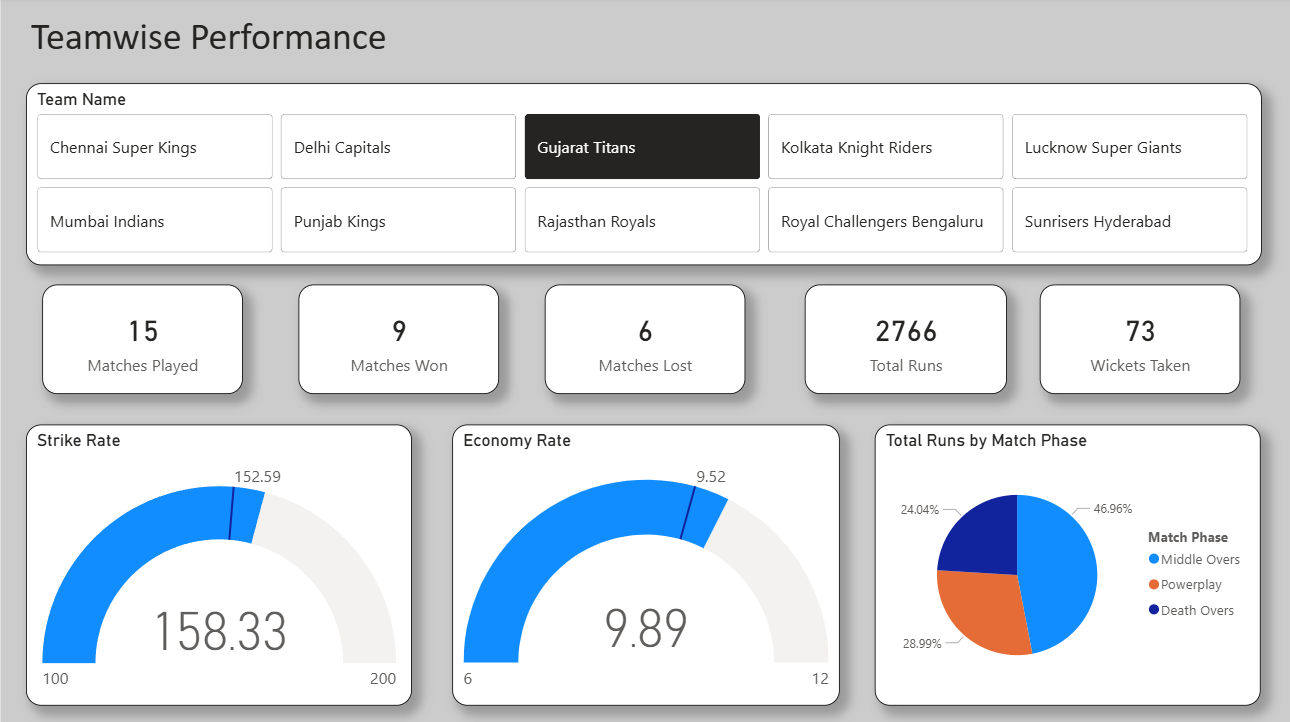

The dashboard page shown, as its layout file describes it:
{"tool":"powerbi","page":{"name":"Team","canvas":[1280,720],"ordinal":0},"visuals":[{"type":"advancedSlicerVisual","title":"Team Name","fields":{"Values":["Teams.Team_Name"]},"box":[24.2,85.5,1227.3,181],"z":0},{"type":"card","fields":{"Values":["_Key Measures.Total Runs"]},"box":[798.2,285,201,109],"z":1000},{"type":"card","fields":{"Values":["_Key Measures.Wickets Taken"]},"box":[1032,285,199.6,109],"z":2000},{"type":"card","fields":{"Values":["_Key Measures.Matches Played"]},"box":[41.3,285,199.6,109],"z":3000},{"type":"card","fields":{"Values":["_Key Measures.Matches Won"]},"box":[295.1,285,199.6,109],"z":4000},{"type":"card","fields":{"Values":["_Key Measures.Matches Lost"]},"box":[540.2,285,199.6,109],"z":5000},{"type":"gauge","title":"Strike Rate","fields":{"Y":["_Key Measures.Strike Rate"],"TargetValue":["_Key Measures.Target Strike Rate"],"MinValue":["_Key Measures.Min Strike Rate"],"MaxValue":["_Key Measures.Max Strike Rate"]},"box":[24.2,424.8,383.4,279.4],"z":6000},{"type":"gauge","title":"Economy Rate","fields":{"Y":["_Key Measures.Economy Rate"],"MaxValue":["_Key Measures.Max Eco Rate"],"MinValue":["_Key Measures.Min Eco Rate"],"TargetValue":["_Key Measures.Target Economy Rate"]},"box":[447.6,424.8,384.9,279.4],"z":7000},{"type":"pieChart","fields":{"Category":["Deliveries.Match Phase"],"Y":["_Key Measures.Total Runs"]},"box":[868.1,424.8,383.4,279.4],"z":8000},{"type":"textbox","box":[24.2,11.4,383.4,58.4],"z":9000}]}

Visuals, with their boxes in screenshot pixels (x1, y1, x2, y2), scaled from the page's 1280x720 canvas onto the 1290x722 screenshot:
"Team Name" advancedSlicerVisual: 24 86 1261 267
card - _Key Measures.Total Runs: 804 286 1007 395
card - _Key Measures.Wickets Taken: 1040 286 1241 395
card - _Key Measures.Matches Played: 42 286 243 395
card - _Key Measures.Matches Won: 297 286 499 395
card - _Key Measures.Matches Lost: 544 286 746 395
"Strike Rate" gauge: 24 426 411 706
"Economy Rate" gauge: 451 426 839 706
pieChart - Deliveries.Match Phase x _Key Measures.Total Runs: 875 426 1261 706
textbox: 24 11 411 70
